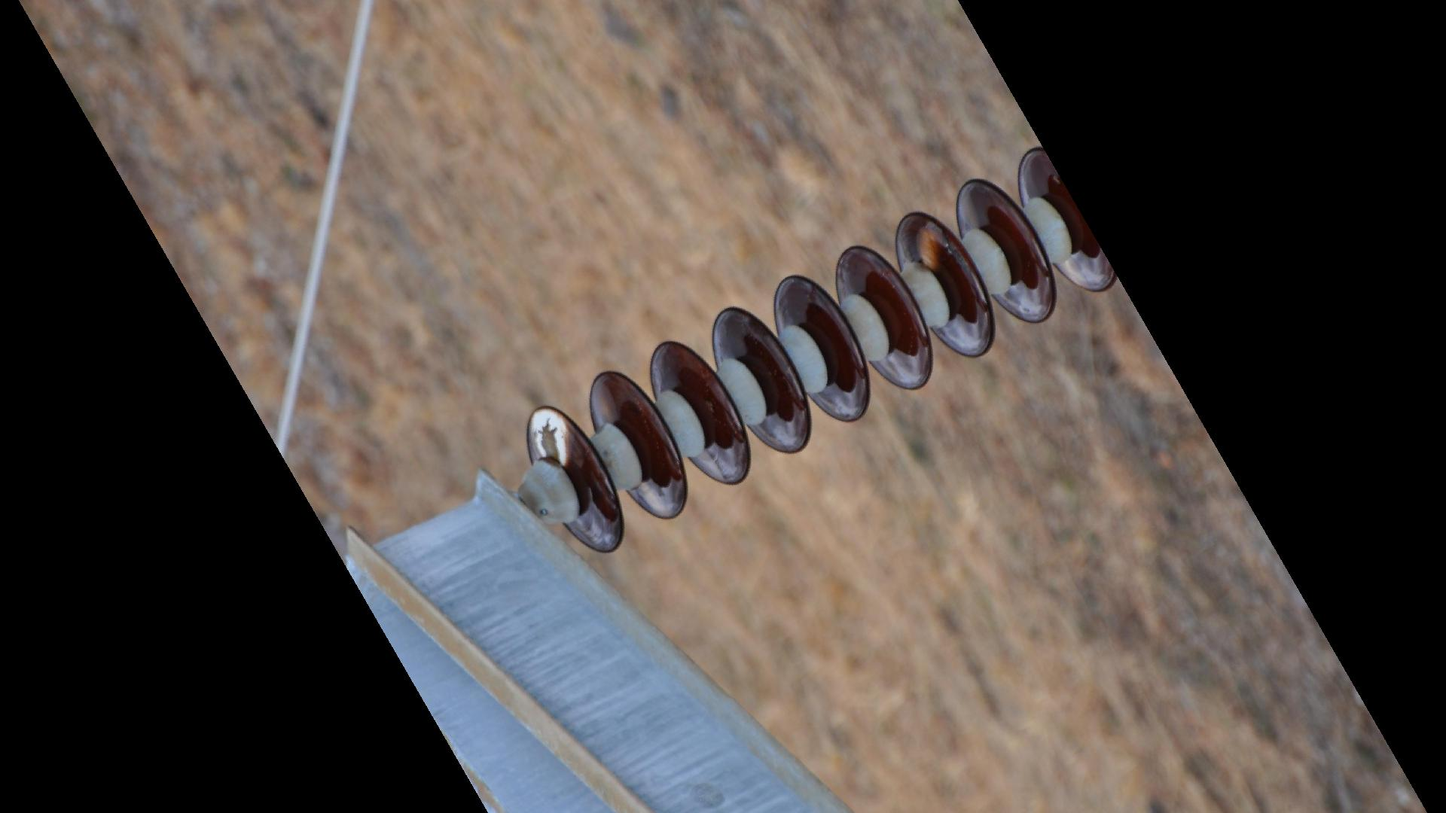insulator: (521, 142, 1124, 561)
insulator_flashover: (528, 403, 573, 466), (914, 224, 942, 272)
